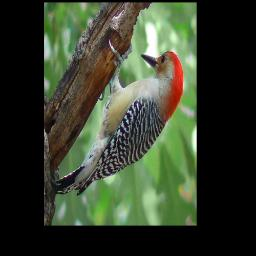Woodpecker: (52, 38, 186, 201)
